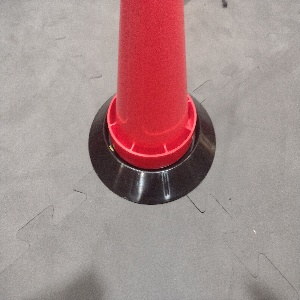Red_1: (106, 0, 201, 172)
